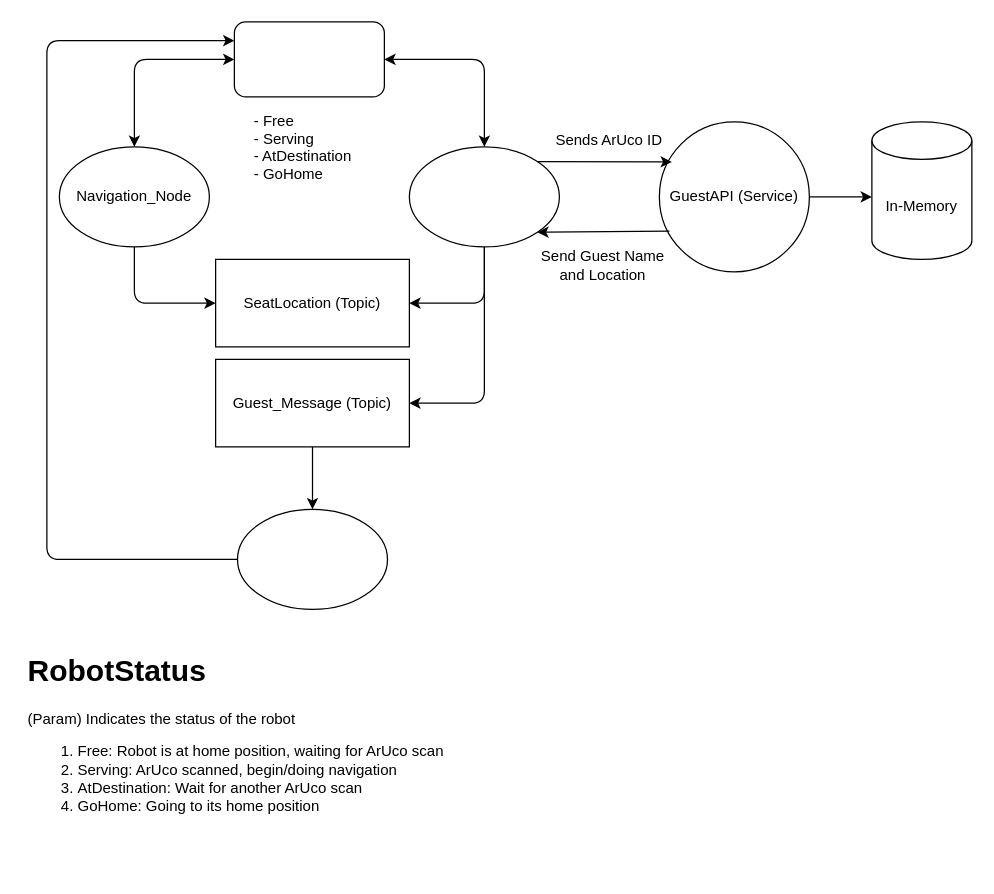
The diagram is 994 pixels wide and 894 high, and some of its shapes have lost their labels. Here are the shapes that lost their labels. From the top down, the box of each, then its label:
(233, 21, 384, 97): RobotStatus (Param)
(408, 146, 559, 247): Camera_Node
(236, 508, 388, 609): LEDScreen_Node
